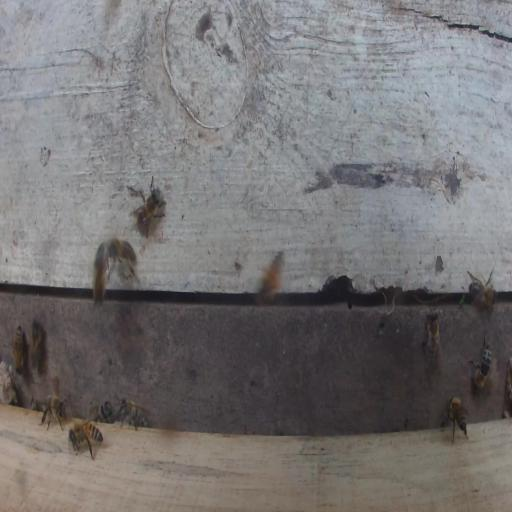nonpollenbee: (128, 172, 169, 238), (68, 410, 104, 462), (467, 265, 497, 315), (468, 332, 492, 392), (106, 236, 136, 281), (422, 309, 443, 368), (444, 396, 470, 443), (118, 397, 152, 432), (40, 393, 67, 433), (92, 239, 107, 310), (29, 320, 43, 369), (12, 324, 24, 375), (93, 400, 113, 424)
pollenbee: (258, 243, 286, 300)
